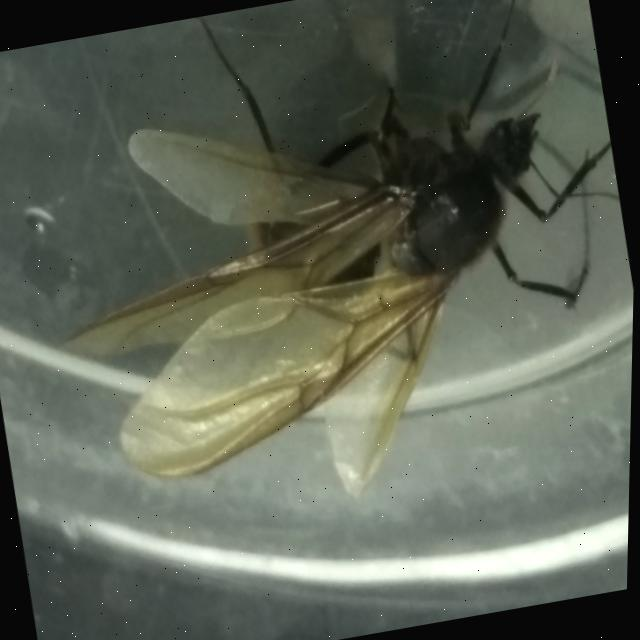Alive-Male-Alate: (7, 0, 640, 545)
